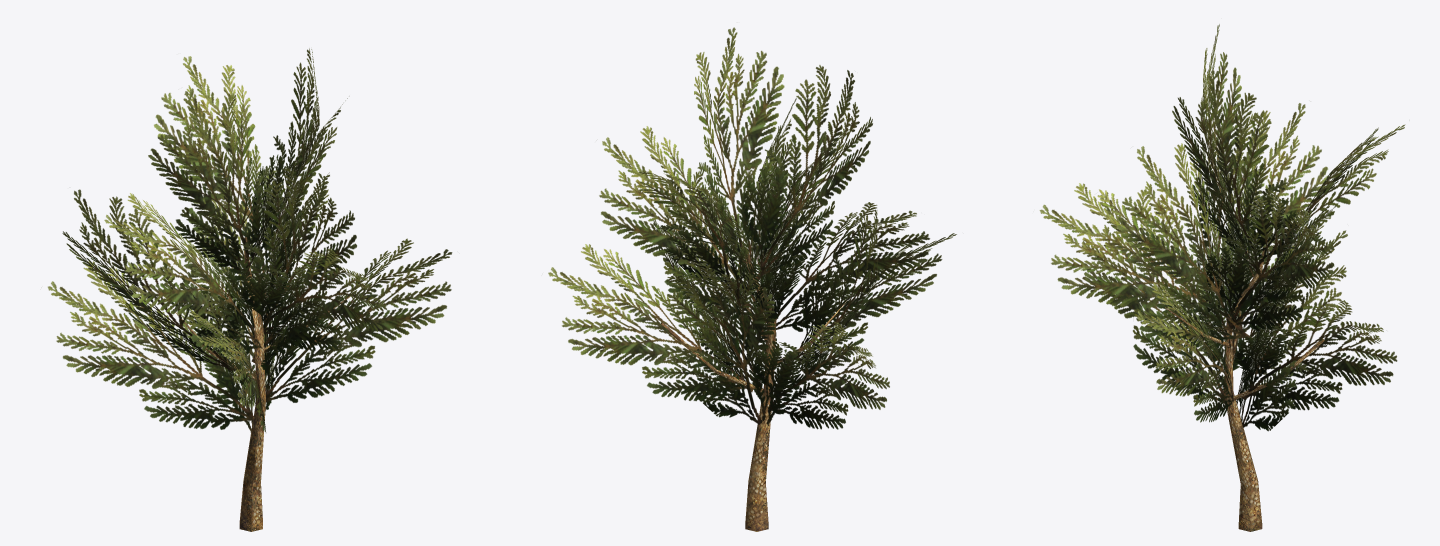
The model's file is ph_tree4.glb.
The picture shows the model from 3 angles, left to right: view 1: azimuth 30°, elevation 25°; view 2: azimuth 150°, elevation 25°; view 3: azimuth 270°, elevation 25°; orthographic projection.
Parts seen in each view (by area): view 1: ph_tree4-col; view 2: ph_tree4-col; view 3: ph_tree4-col.
Part boxes in pixels (<box>): ph_tree4-col: <box>47,48,452,531</box>; ph_tree4-col: <box>548,27,956,531</box>; ph_tree4-col: <box>1039,24,1405,531</box>.
Bounding box in the file's own units: 8.18 × 10.13 × 7.84.
Materials: 2 (2 with a texture image).
